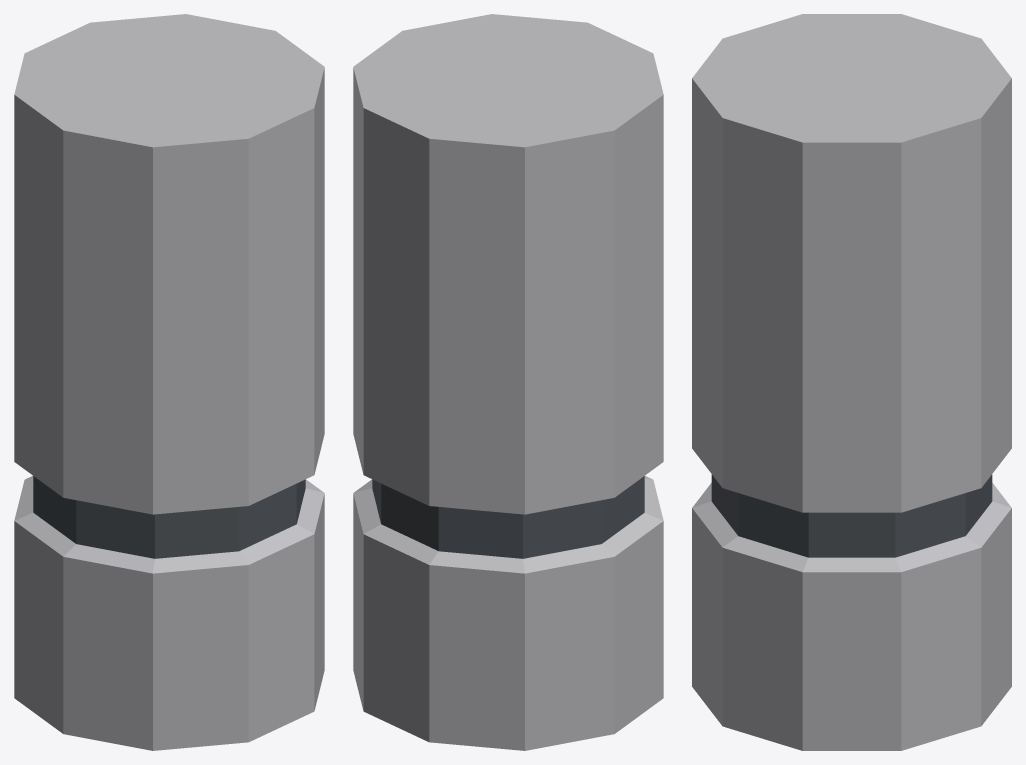
Rendered from Dropship_01_Piping_02.fbx.
The picture shows the model from 3 angles, left to right: view 1: azimuth 30°, elevation 25°; view 2: azimuth 150°, elevation 25°; view 3: azimuth 270°, elevation 25°; orthographic projection.
Visible parts, largest first — view 1: Dropship_01_Piping_02; view 2: Dropship_01_Piping_02; view 3: Dropship_01_Piping_02.
Boxes of the visible parts, box(x1,y1,x2,y2) form: Dropship_01_Piping_02: box(14, 14, 324, 750); Dropship_01_Piping_02: box(353, 14, 663, 750); Dropship_01_Piping_02: box(692, 14, 1011, 750).
Bounding box in the file's own units: 52.29 × 115 × 54.98.
1 material, 1 textured.
